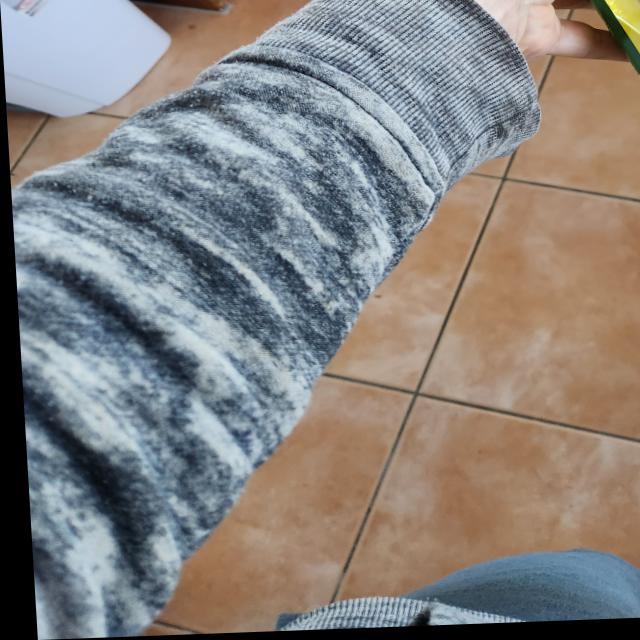olive oil: (534, 0, 640, 156)
